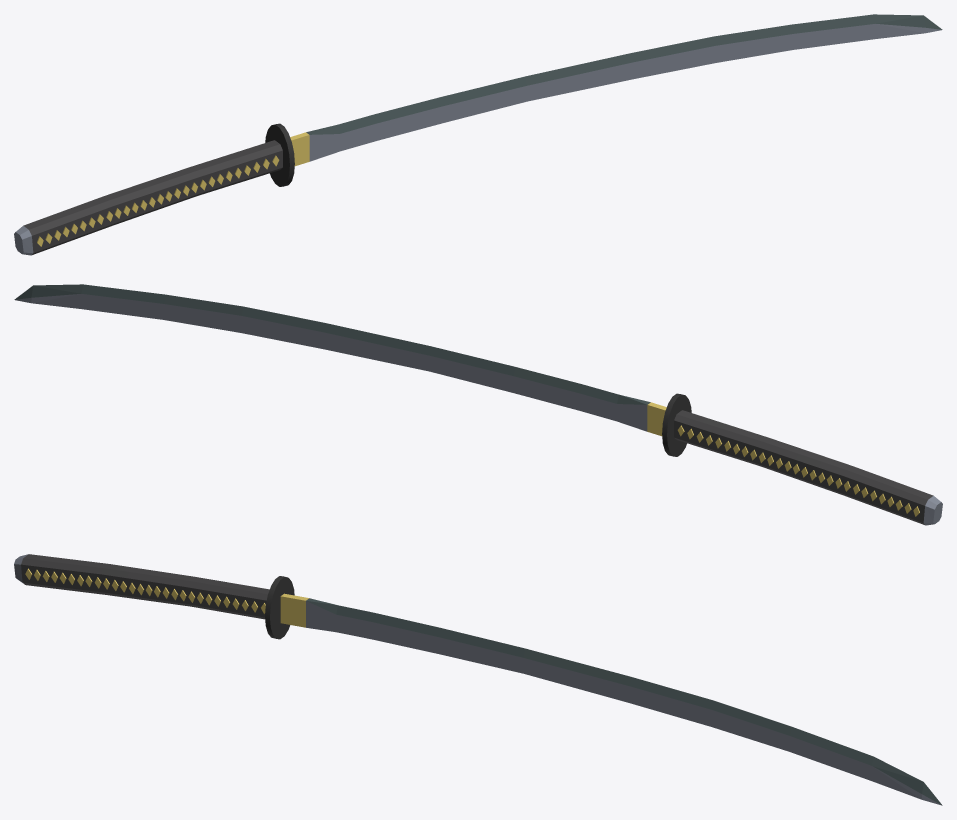
The model's file is Katana.fbx.
3 views of the same model, one above another, from view 1: azimuth 30°, elevation 25°; view 2: azimuth 150°, elevation 25°; view 3: azimuth 330°, elevation 25° (orthographic).
Visible parts, largest first — view 1: Box001; view 2: Box001; view 3: Box001.
Boxes of the visible parts, <box> form: Box001: <box>14,14,942,255</box>; Box001: <box>14,284,942,525</box>; Box001: <box>14,554,942,805</box>.
Size of the model in its own units: 288 by 19.72 by 13.47.
Materials: 5 (5 with a texture image).
